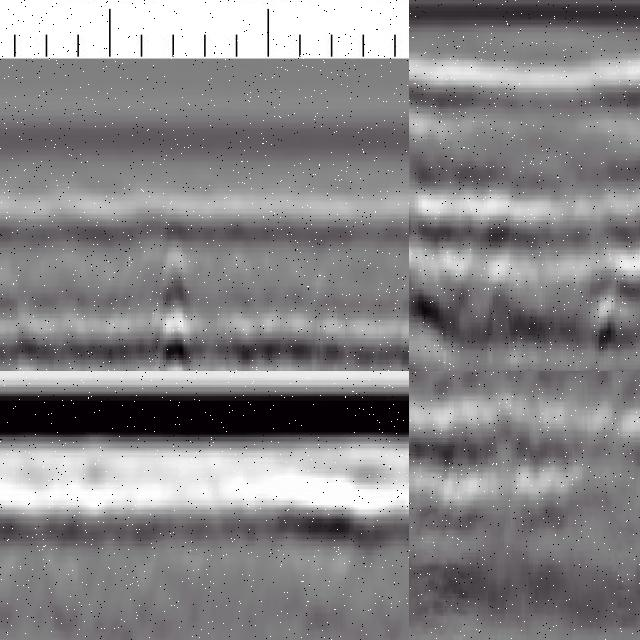crack: (159, 203, 190, 372), (410, 372, 425, 640)
loose: (410, 144, 524, 338)
